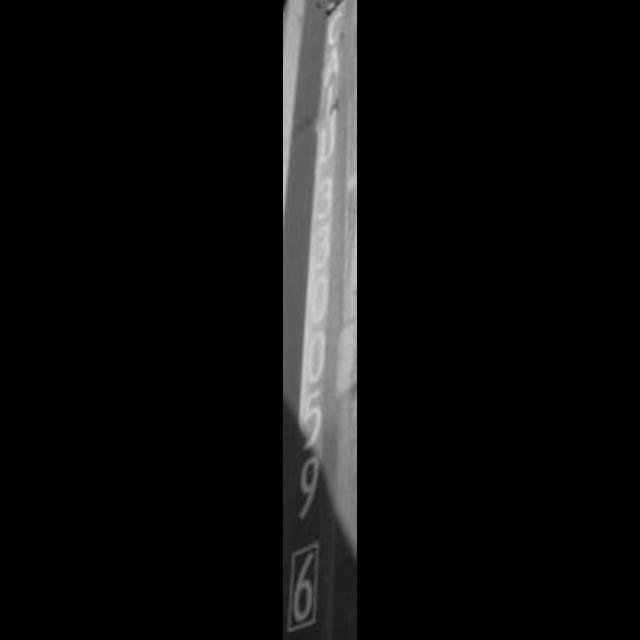0: (296, 326, 334, 386), (305, 270, 337, 326)
3: (300, 218, 342, 272), (310, 166, 338, 218)
5: (292, 380, 332, 454)
6: (284, 538, 328, 632)
9: (284, 450, 328, 528)
a: (317, 44, 345, 84)
c: (320, 4, 348, 52)
i: (316, 83, 340, 117)
u: (312, 107, 344, 163)
